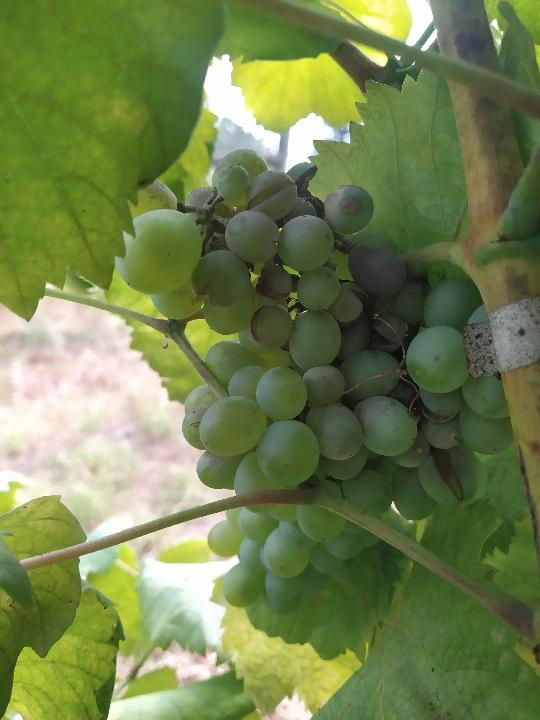grape: (111, 144, 509, 490)
